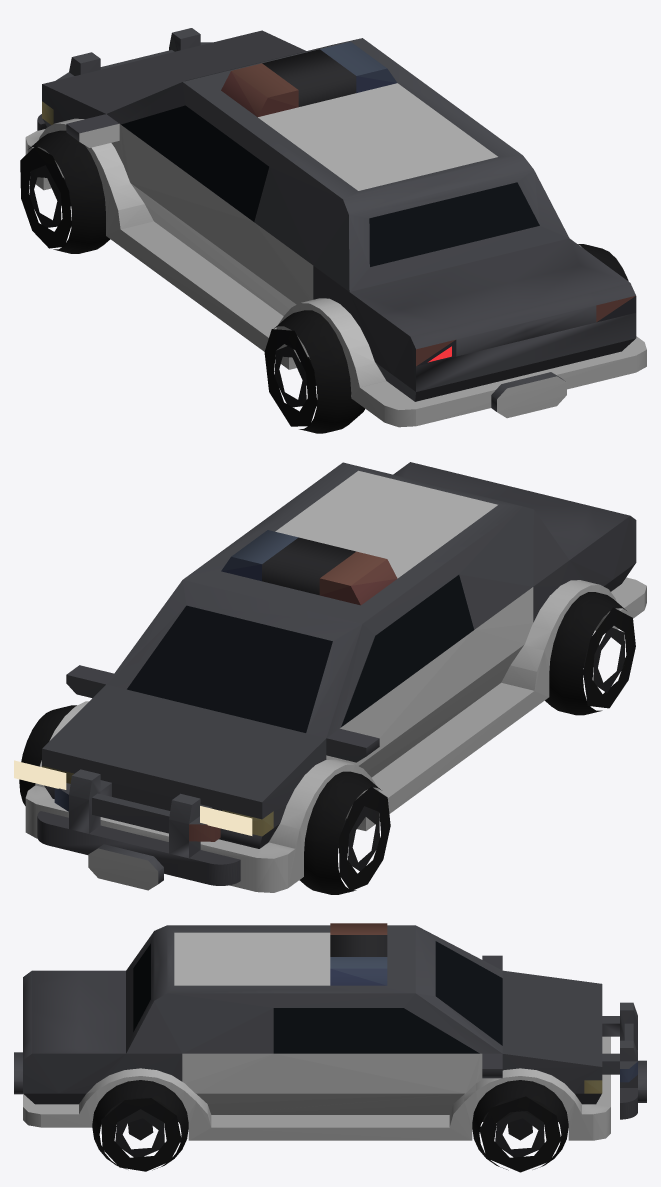
The model's file is ov_police.glb.
3 renders of one model, top to bottom at view 1: azimuth 30°, elevation 25°; view 2: azimuth 150°, elevation 25°; view 3: azimuth 270°, elevation 25°, orthographic. The views are drawn at different scales.
Visible parts, largest first — view 1: Body, WheelRL, WheelFL; view 2: Body, WheelFL, WheelRL, WheelFR; view 3: Body, WheelRR, WheelFR.
Part boxes in pixels (x1,y1,x2,y2): Body: (25, 28, 646, 427); WheelRL: (264, 310, 364, 433); WheelFL: (20, 130, 110, 253); Body: (14, 462, 646, 892); WheelFL: (299, 771, 390, 894); WheelRL: (545, 592, 635, 715); WheelFR: (19, 705, 76, 805); Body: (14, 923, 646, 1140); WheelRR: (92, 1080, 188, 1171); WheelFR: (472, 1080, 568, 1172).
Size of what is drawn, in the model's own units: 2.07 by 1.38 by 4.6.
